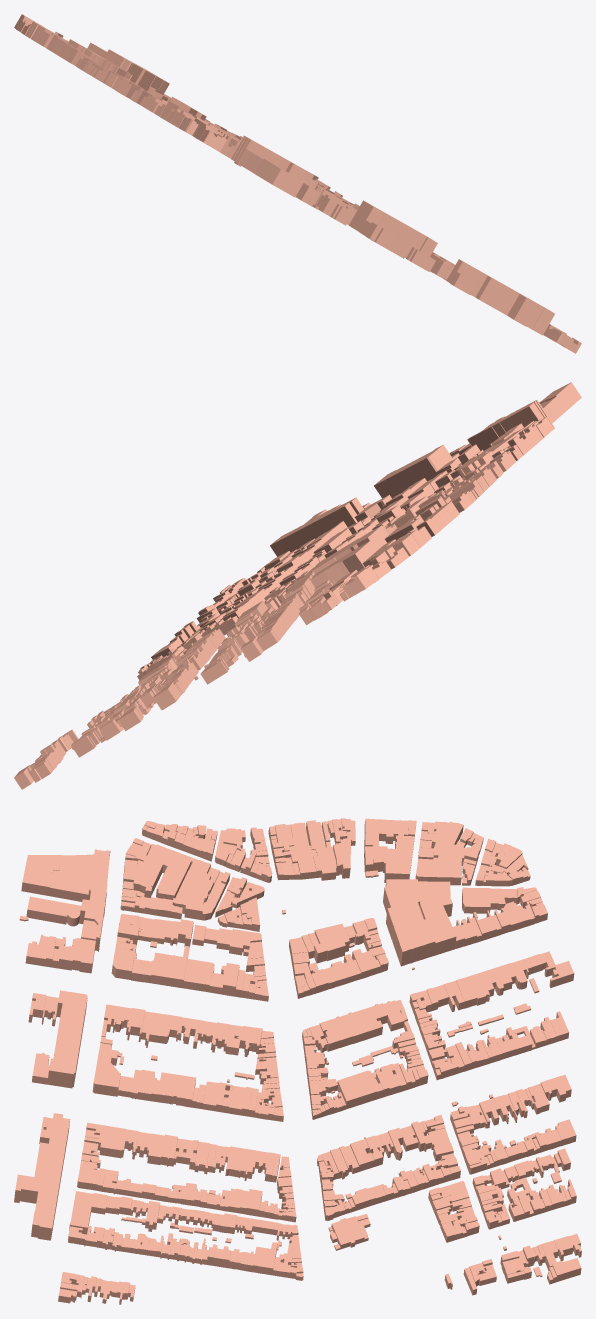
The picture shows the model from 3 angles, top to bottom: view 1: azimuth 30°, elevation 25°; view 2: azimuth 150°, elevation 25°; view 3: azimuth 270°, elevation 25°; orthographic projection. The views are drawn at different scales.
Bounding box in the file's own units: 509 × 385 × 640.
